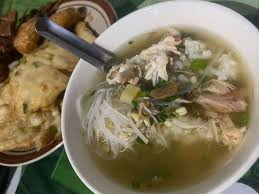Soto: (81, 26, 255, 194)
